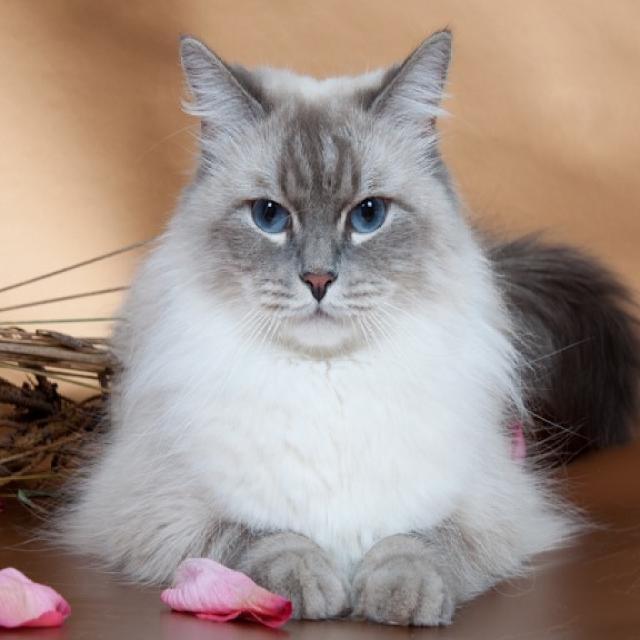Neva Masquerade: (62, 25, 640, 633)
